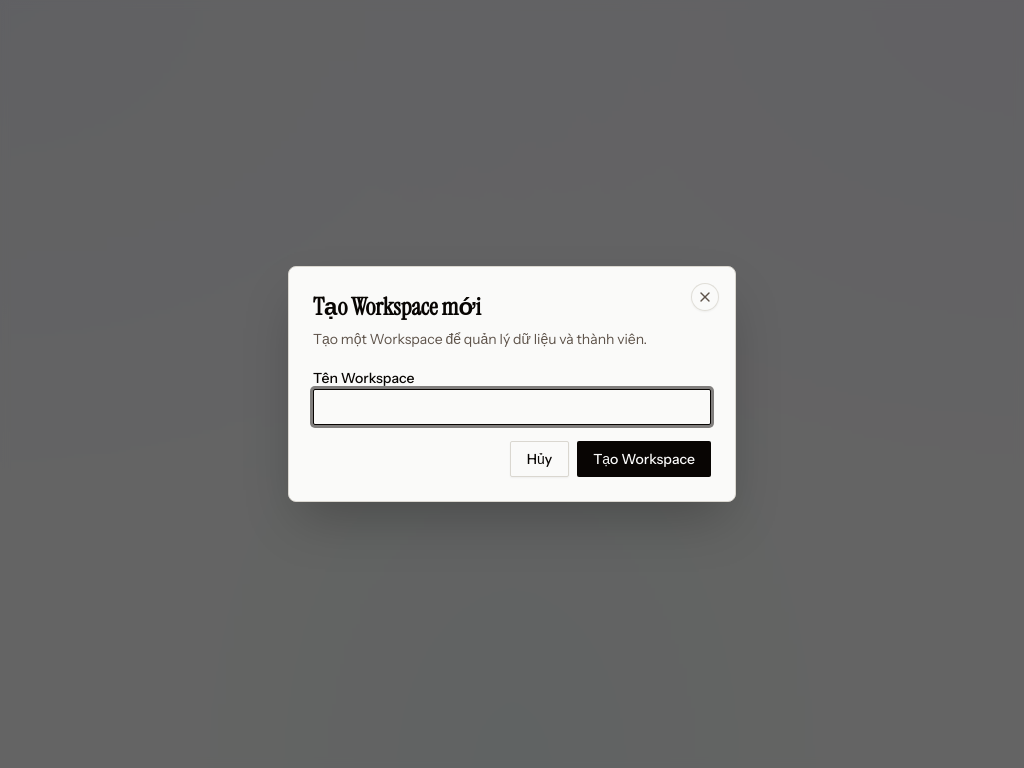
it: CreateWorkspaceModal › rejects an empty workspace name
Click the button "Tạo Workspace".
click(644, 459)  # box [577,441,711,477]
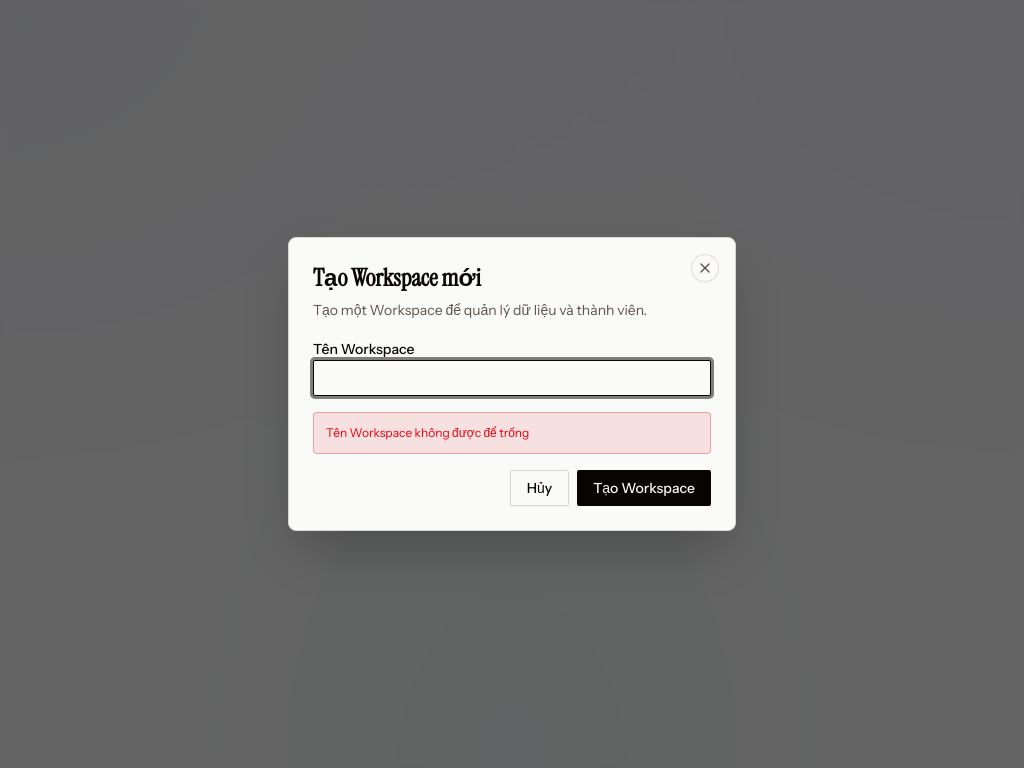
Expected: the message reads "Tên Workspace không được để trống", [326,425,529,440]
